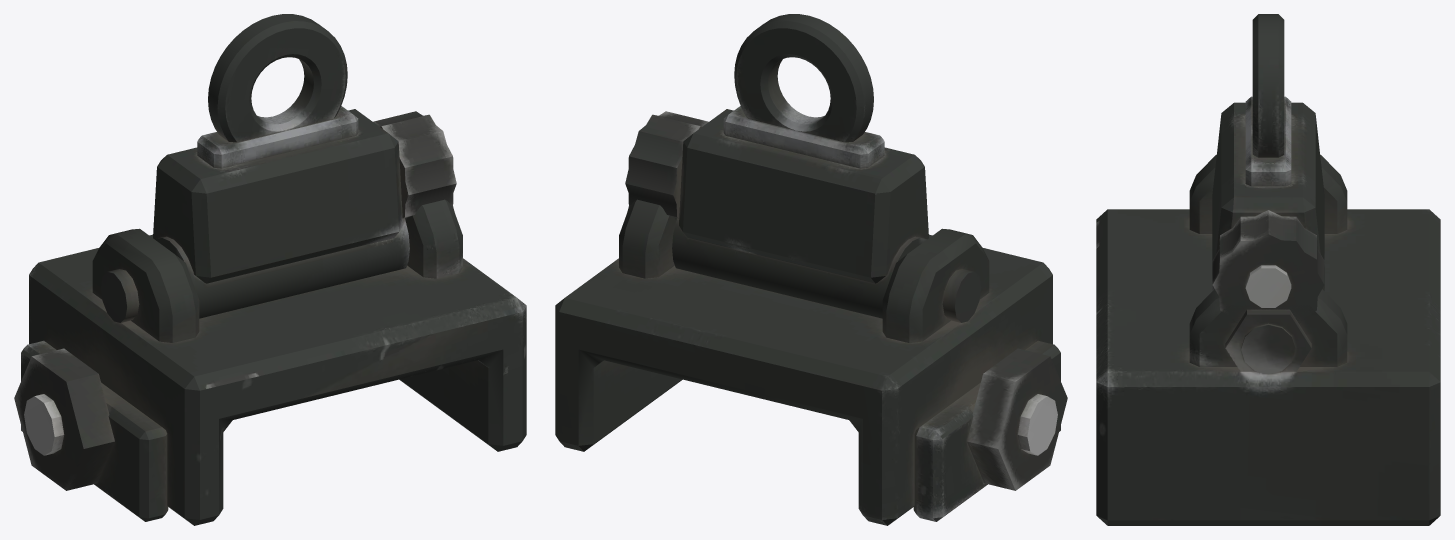
Rendered from alca_rebativel.glb.
The picture shows the model from 3 angles, left to right: view 1: azimuth 30°, elevation 25°; view 2: azimuth 150°, elevation 25°; view 3: azimuth 270°, elevation 25°; orthographic projection. The views are drawn at different scales.
Visible parts, largest first — view 1: alca_rebativel_base, alca_rebativel_lamina; view 2: alca_rebativel_base, alca_rebativel_lamina; view 3: alca_rebativel_base, alca_rebativel_lamina.
Boxes of the visible parts, <box> form: alca_rebativel_base: <box>14,199,526,525</box>; alca_rebativel_lamina: <box>153,14,456,318</box>; alca_rebativel_base: <box>555,199,1067,525</box>; alca_rebativel_lamina: <box>625,14,928,318</box>; alca_rebativel_base: <box>1096,154,1440,525</box>; alca_rebativel_lamina: <box>1212,14,1324,323</box>.
Size of the model in its own units: 0.034 by 0.0327 by 0.024.
1 material, 1 textured.
